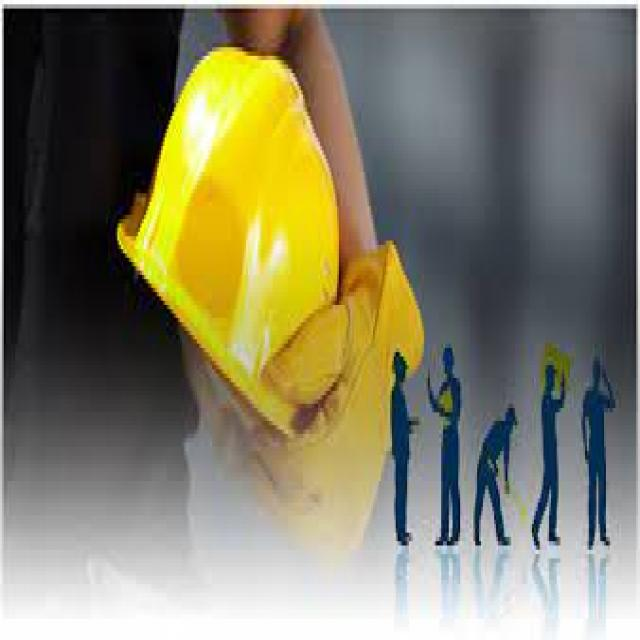Safety-Helmet: (114, 43, 348, 442)
